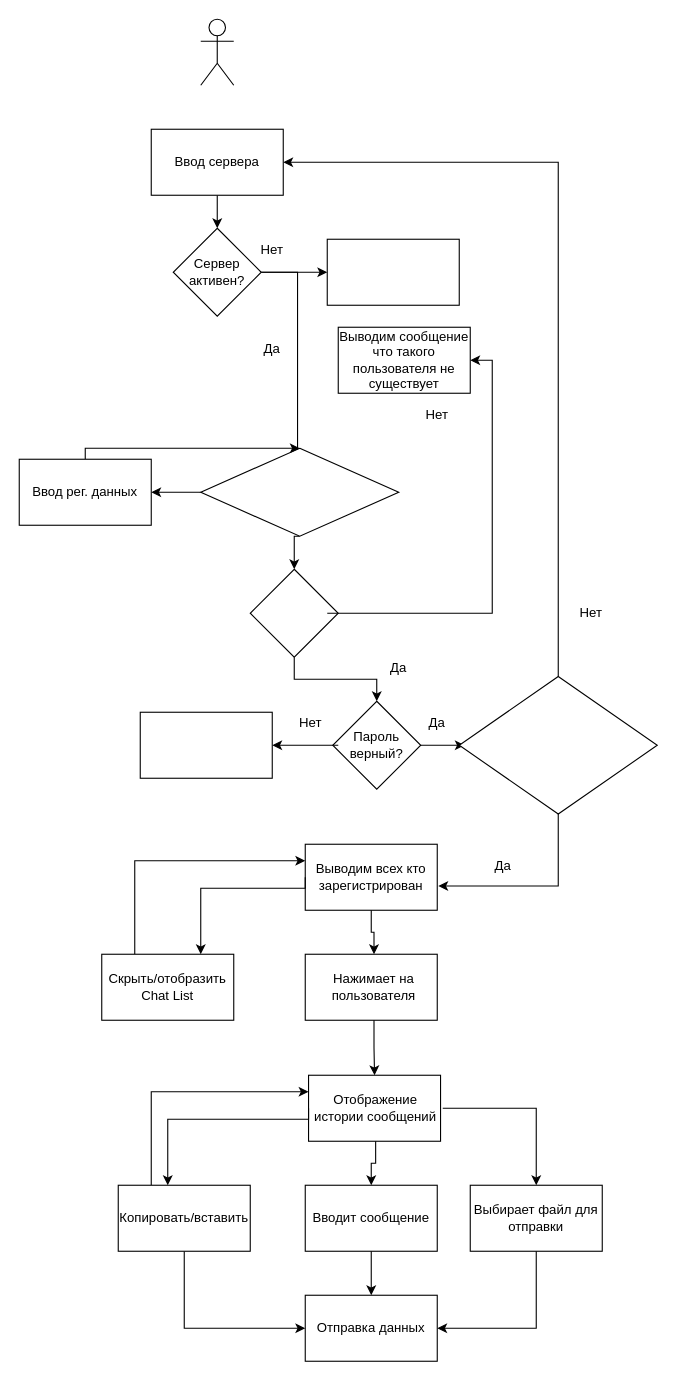
Some shapes in this 677 by 1381 pixel diagram are drawn without their labels. The shapes that lost their labels are listed below. From the top down, each one's centre as x and y in pixels, then its label:
At point 217,51: "Actor".
At point 392,271: "Выводим сообщение что сервер неактивен".
At point 299,491: "Вход / Регистрация".
At point 293,612: "Логин верный?".
At point 205,744: "Выводим сообщение что пароль неверный".
At point 557,744: "Единственная активная сессия?".
